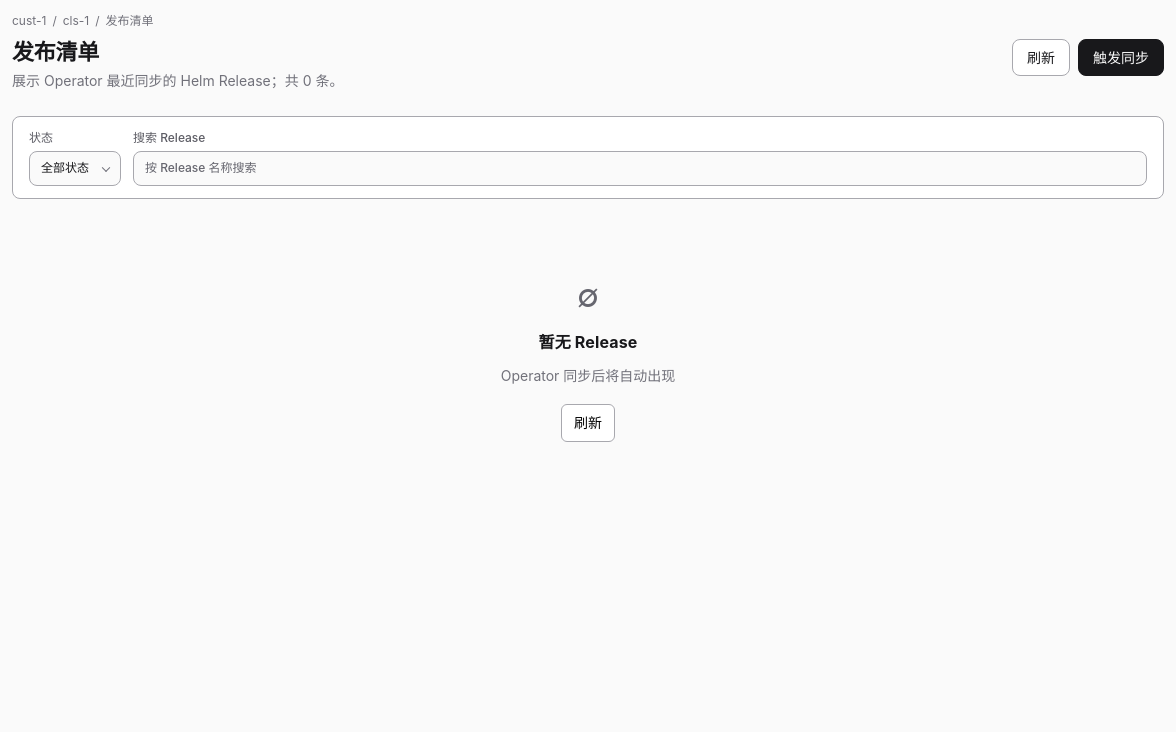
Test: ReleaseInventoryPage sync notice lifetime (TASK-267) › shows the sync notice again after it is dismissed and the next sync is accepted
The image size is (1176, 732).
Click the button "触发同步" at (1121, 57), box [1078,39,1164,76]
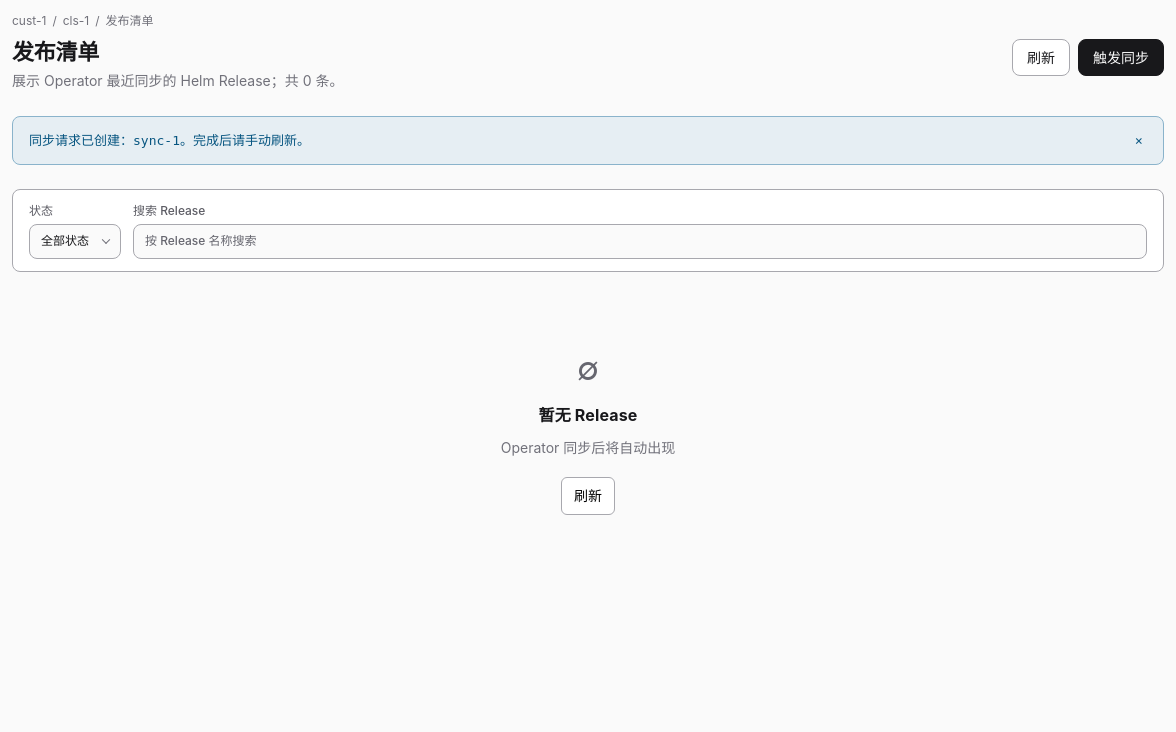
expect the message with test id "inventory-sync-notice" shows "sync-1": met, box [133,133,180,148]
Click the button with test id "inventory-sync-notice-dismiss" at (1139, 140), box [1130,134,1147,147]
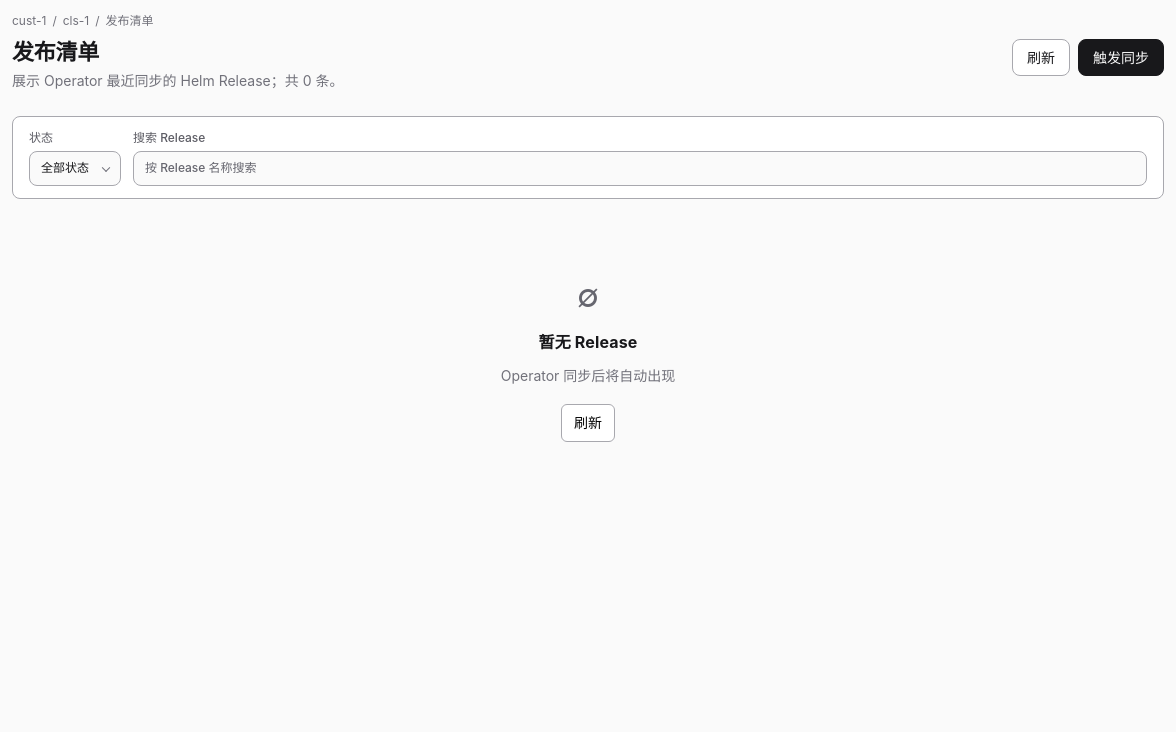
Click the button "触发同步" at (1121, 57), box [1078,39,1164,76]
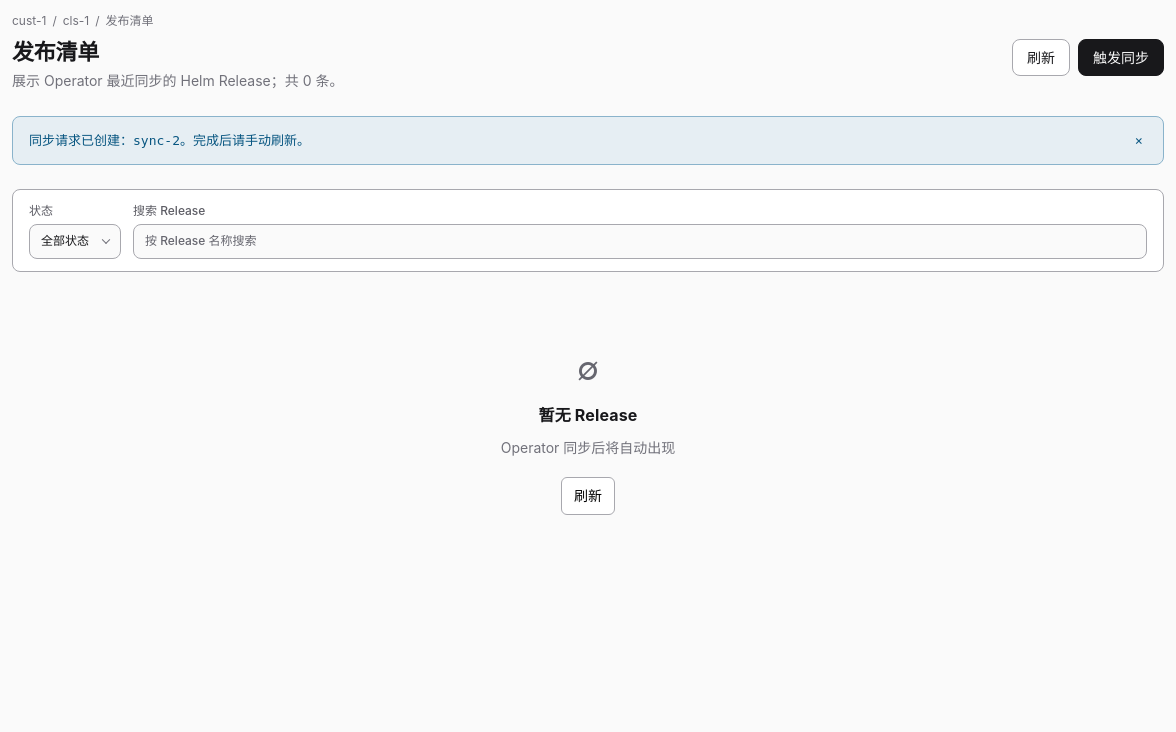
expect the message with test id "inventory-sync-notice" shows "sync-2": met, box [133,133,180,148]
